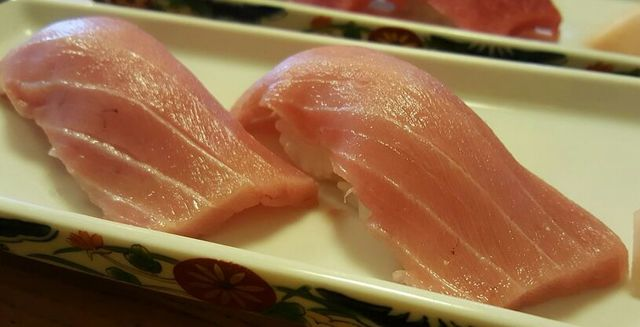medium_fatty_tuna: (245, 41, 630, 308), (6, 16, 269, 244)
